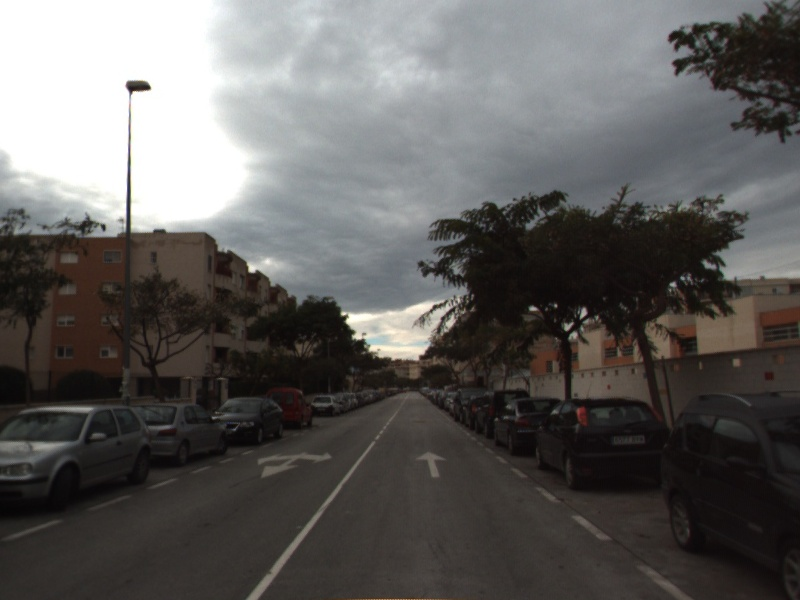STRAIGHT: (414, 449, 450, 479)
